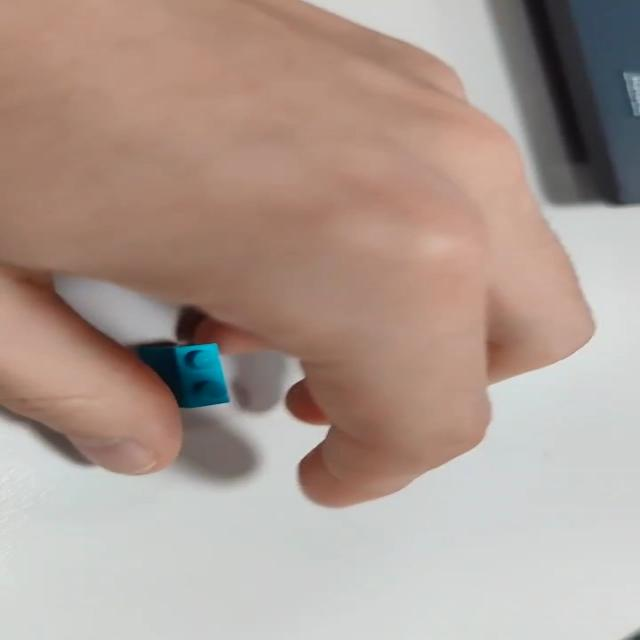C2x1x1: (133, 340, 234, 411)
